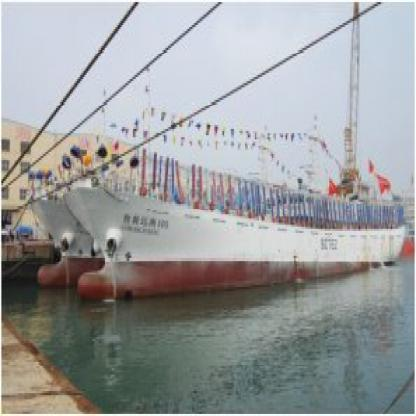fish-b: (56, 140, 415, 316)
